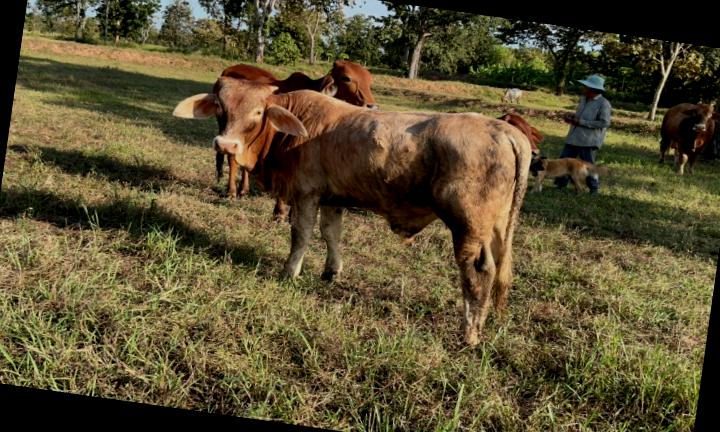Charolais: (172, 77, 530, 344)
